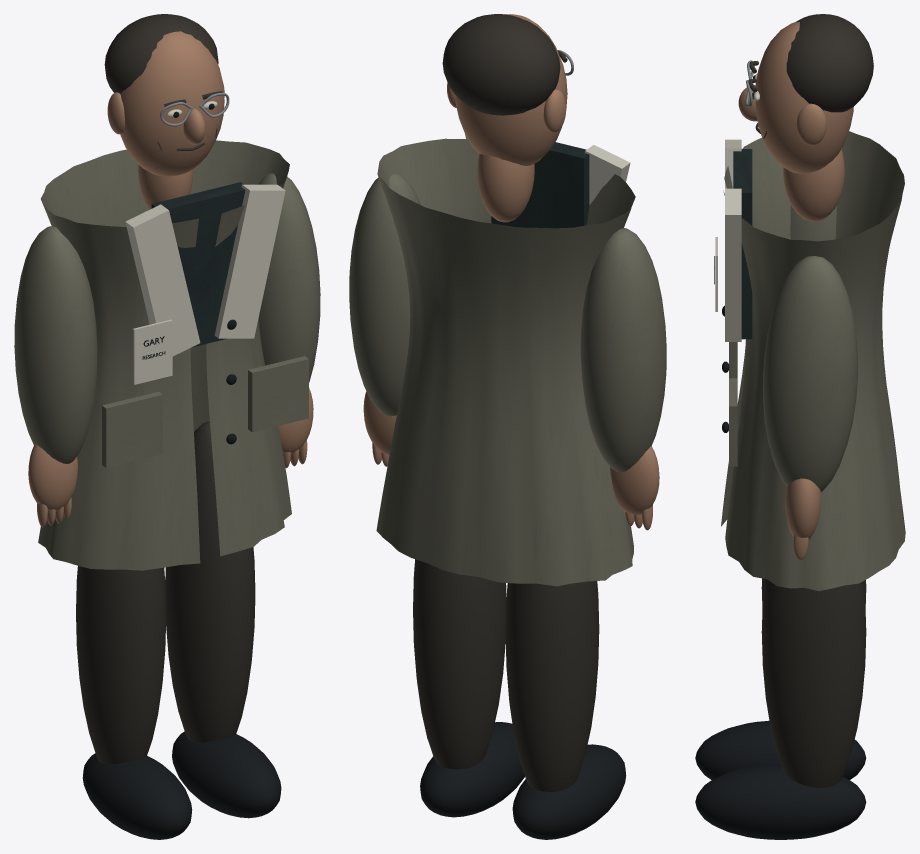
The model's file is gary.glb.
The picture shows the model from 3 angles, left to right: view 1: azimuth 30°, elevation 25°; view 2: azimuth 150°, elevation 25°; view 3: azimuth 270°, elevation 25°; orthographic projection. The views are drawn at different scales.
Visible parts, largest first — view 1: Tailored coat, Trouser.001, Trouser, Sleeve, Face, Sleeve.001, Boot.001, Boot, Shirt, Coat lapel.001, Coat lapel, Pocket (+8 smaller); view 2: Tailored coat, Trouser, Sleeve, Trouser.001, Sleeve.001, Hair, Boot, Boot.001, Shirt, Face, Neck, Hand (+3 smaller); view 3: Tailored coat, Trouser.001, Sleeve.001, Boot.001, Hair, Face, Boot, Neck, Coat lapel.001, Shirt, Hand.001, Sleeve (+3 smaller).
Boxes of the visible parts, bbox=[...] form: Tailored coat: bbox=[38, 140, 291, 570]; Trouser.001: bbox=[165, 422, 255, 742]; Trouser: bbox=[76, 566, 166, 764]; Sleeve: bbox=[14, 226, 97, 463]; Face: bbox=[120, 31, 224, 176]; Sleeve.001: bbox=[258, 173, 320, 382]; Boot.001: bbox=[172, 731, 281, 818]; Boot: bbox=[82, 753, 192, 839]; Shirt: bbox=[151, 182, 245, 347]; Coat lapel.001: bbox=[214, 184, 285, 338]; Coat lapel: bbox=[125, 204, 200, 356]; Pocket: bbox=[102, 391, 162, 467]; Tailored coat: bbox=[376, 138, 635, 586]; Trouser: bbox=[505, 581, 599, 791]; Sleeve: bbox=[580, 228, 666, 472]; Trouser.001: bbox=[413, 559, 506, 769]; Sleeve.001: bbox=[349, 173, 420, 416]; Hair: bbox=[442, 14, 560, 115]; Boot: bbox=[512, 744, 626, 839]; Boot.001: bbox=[420, 722, 524, 817]; Shirt: bbox=[491, 142, 589, 228]; Face: bbox=[455, 14, 567, 165]; Neck: bbox=[477, 154, 534, 222]; Hand: bbox=[610, 446, 659, 515]; Tailored coat: bbox=[721, 131, 905, 590]; Trouser.001: bbox=[761, 579, 866, 787]; Sleeve.001: bbox=[763, 256, 857, 491]; Boot.001: bbox=[695, 764, 866, 839]; Hair: bbox=[786, 14, 873, 112]; Face: bbox=[755, 22, 853, 173]; Boot: bbox=[695, 720, 866, 779]; Neck: bbox=[783, 149, 844, 221]; Coat lapel.001: bbox=[725, 188, 741, 341]; Shirt: bbox=[733, 149, 752, 339]; Hand.001: bbox=[785, 478, 821, 539]; Sleeve: bbox=[790, 205, 836, 241].
Size of the model in its own units: 0.72 by 1.84 by 0.443.
Materials: 7 (2 with a texture image).
